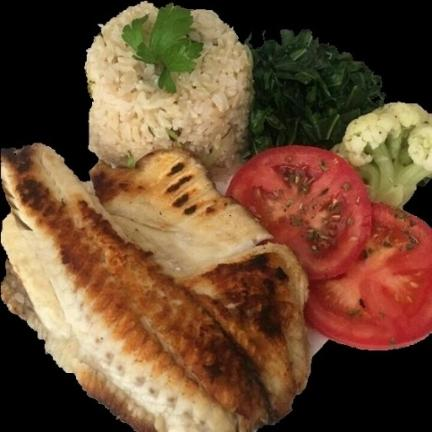fish: (1, 144, 309, 431)
green_vegetables: (246, 30, 431, 207)
rice: (85, 2, 252, 167)
tomato: (226, 146, 431, 349)
